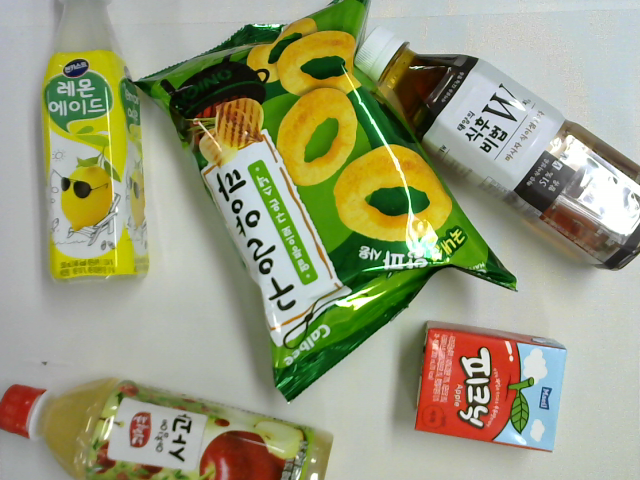Grilled_Onions: (130, 1, 521, 407)
Morning_Apple_500ml: (1, 375, 336, 480)
Picnic_Apple: (411, 320, 571, 455)
Post-meal_recipe_W_tea_500ml: (350, 23, 640, 275)
Sunkist_Lemonaid_Pet: (36, 1, 153, 286)
